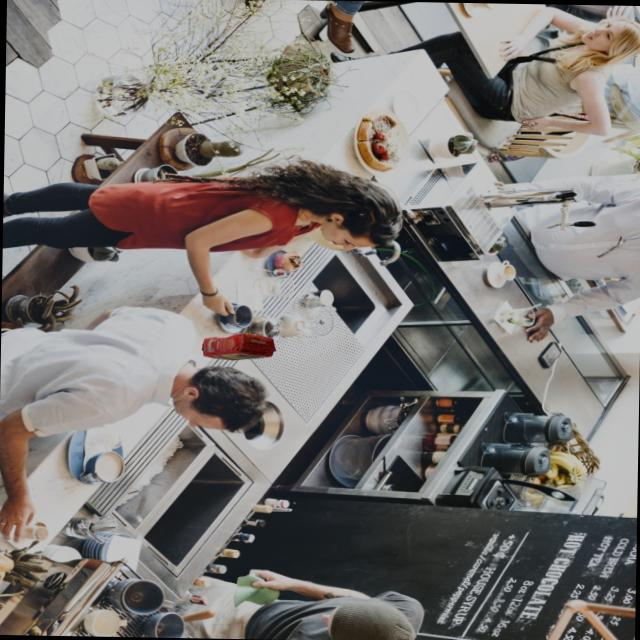mate bag: (201, 332, 273, 361)
